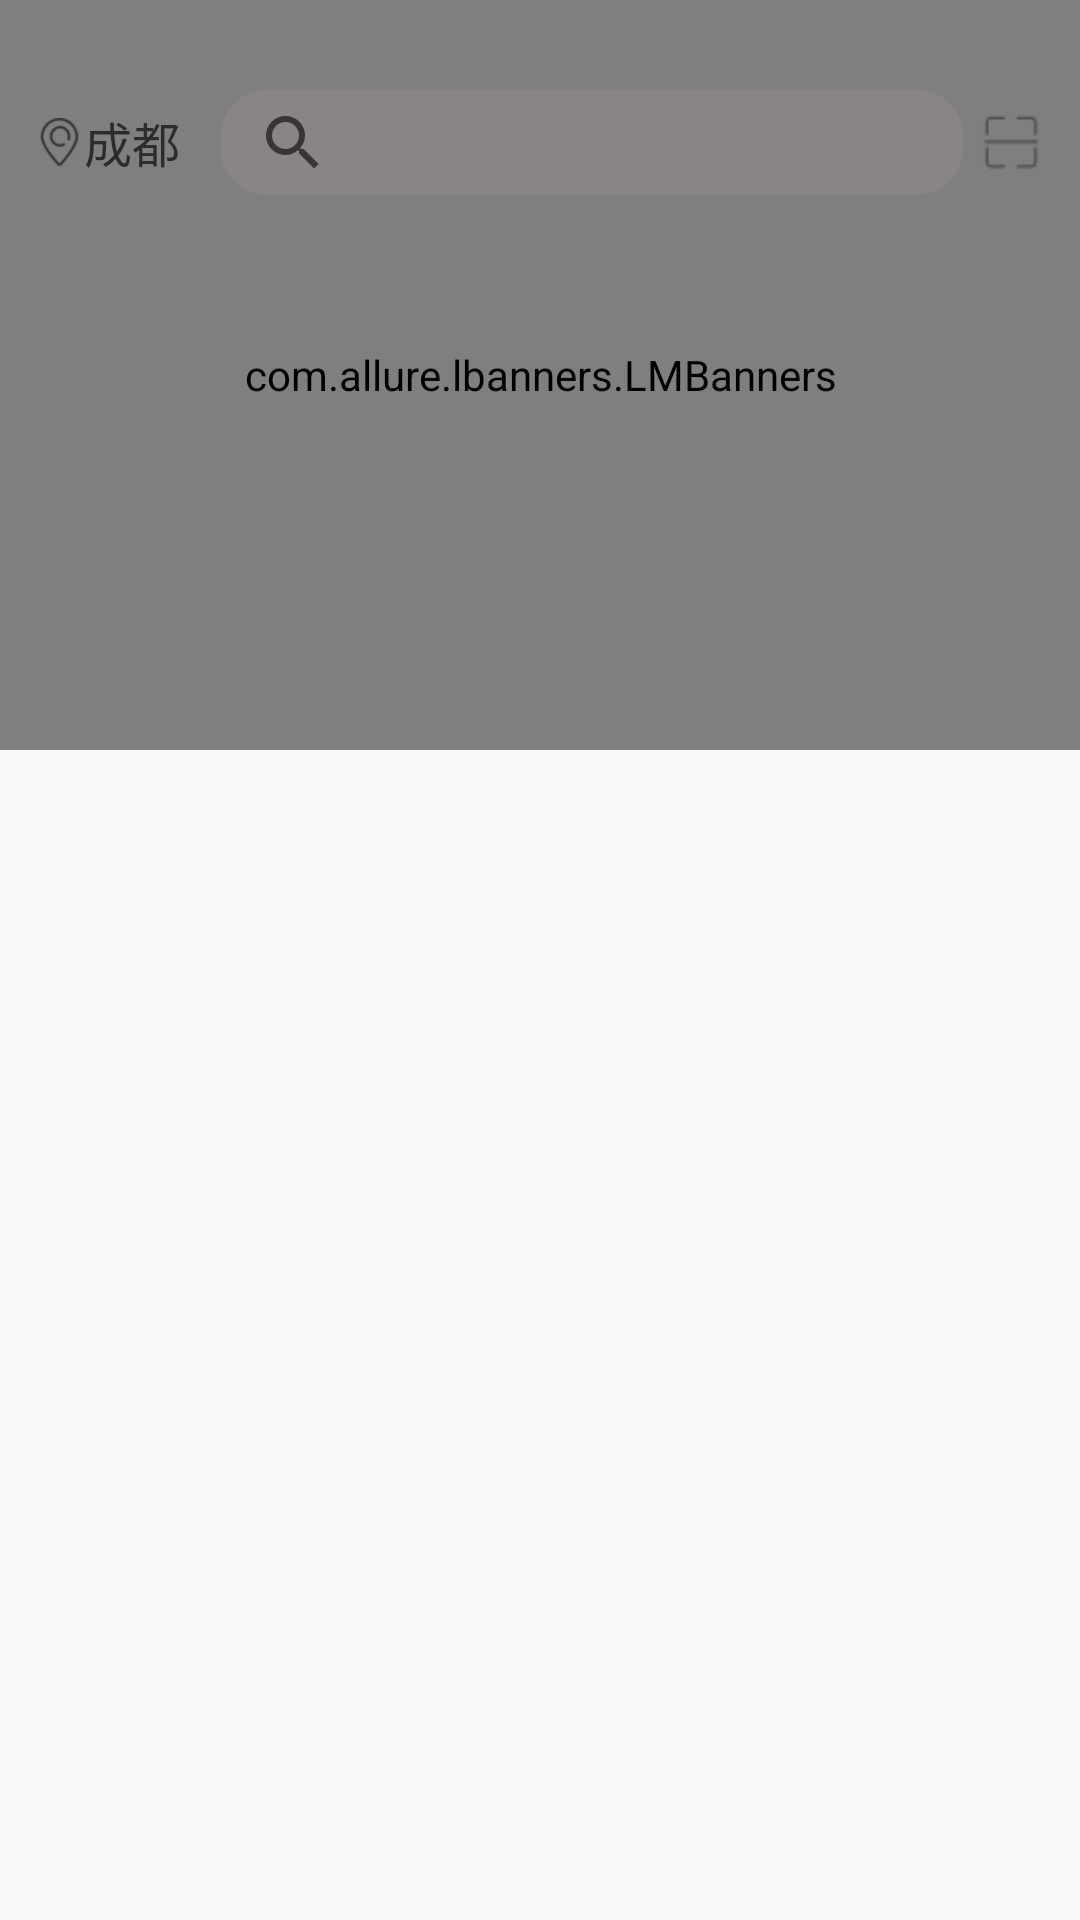

Point at icon controls on the screen. Image size 1080 x 1920, points as point (x, y).
erweima: point (1011, 142)
map: point (59, 142)
